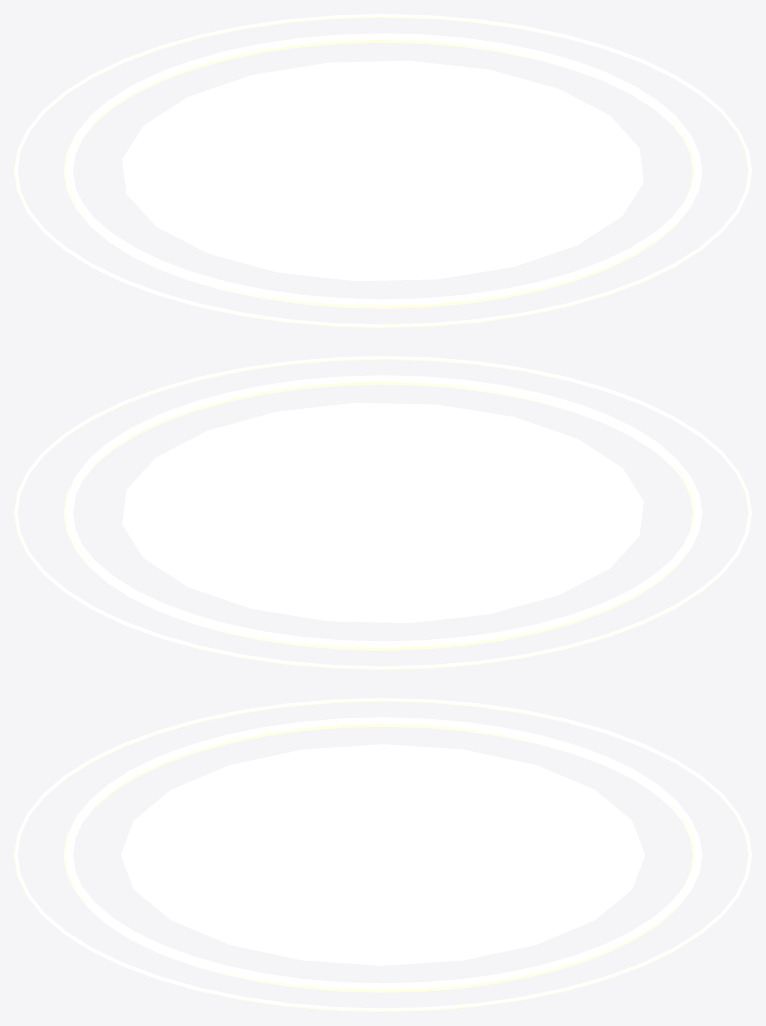
Rendered from sun_halo.glb.
3 views of the same model, one above another, from view 1: azimuth 30°, elevation 25°; view 2: azimuth 150°, elevation 25°; view 3: azimuth 270°, elevation 25° (orthographic).
Visible parts, largest first — view 1: Sun disc, Solar halo, Solar halo.001; view 2: Sun disc, Solar halo, Solar halo.001; view 3: Sun disc, Solar halo, Solar halo.001.
Boxes of the visible parts, x1,y1,x2,y2 form: Sun disc: [122, 60, 643, 281]; Solar halo: [63, 33, 702, 308]; Solar halo.001: [14, 14, 751, 327]; Sun disc: [122, 402, 643, 623]; Solar halo: [63, 375, 702, 650]; Solar halo.001: [14, 356, 751, 669]; Sun disc: [121, 744, 644, 965]; Solar halo: [63, 717, 702, 992]; Solar halo.001: [14, 698, 751, 1011].
Size of the model in its own units: 28.14 by 0.3118 by 28.14.
